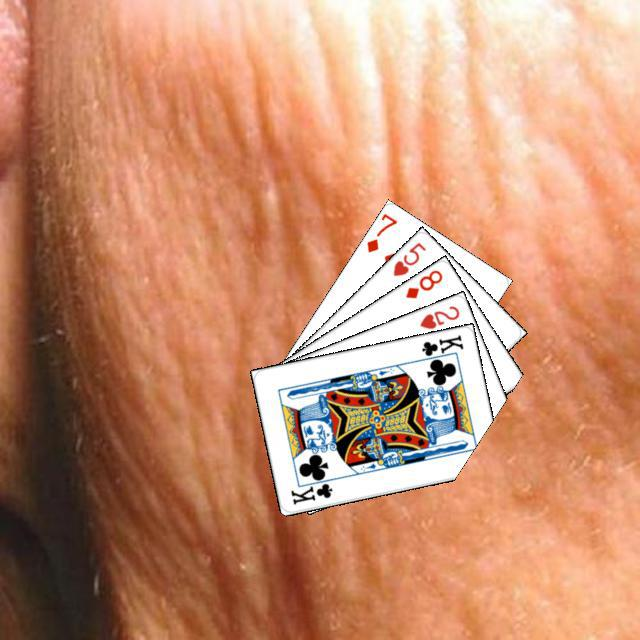2h: (415, 301, 461, 331)
5h: (388, 237, 428, 278)
7d: (361, 209, 399, 254)
8d: (400, 265, 444, 300)
Kc: (414, 330, 465, 363), (286, 473, 336, 506)
